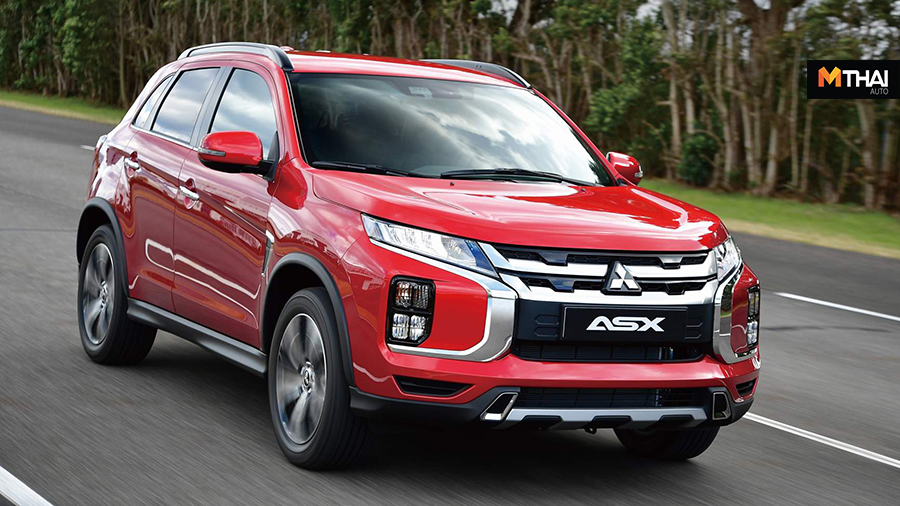pickup: (75, 39, 768, 472)
